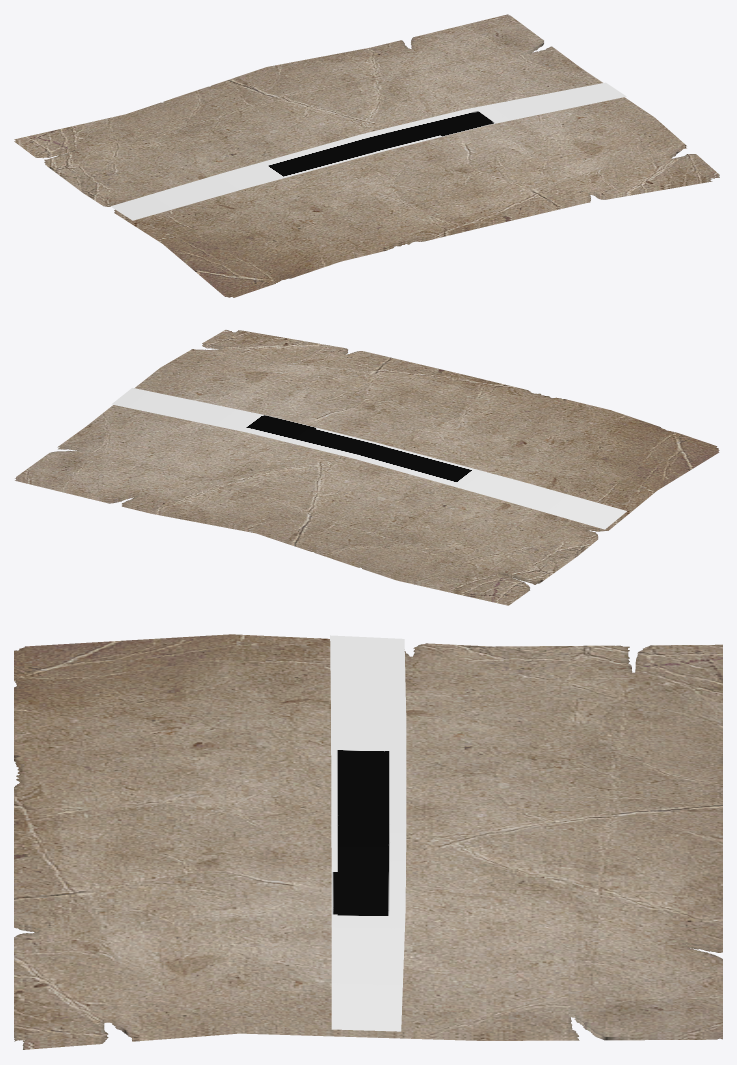
Rendered from 01_01_notes_munshi_mod_dead_earth.dae.
3 views of the same model, one above another, from view 1: azimuth 30°, elevation 25°; view 2: azimuth 150°, elevation 25°; view 3: azimuth 270°, elevation 25° (orthographic). The views are drawn at different scales.
Visible parts, largest first — view 1: note_paper, note_Dead_Earth; view 2: note_paper, note_Dead_Earth; view 3: note_paper, note_Dead_Earth.
Part boxes in pixels (x1,y1,x2,y2): note_paper: (14, 14, 719, 297); note_Dead_Earth: (110, 82, 626, 220); note_paper: (15, 330, 719, 605); note_Dead_Earth: (111, 388, 626, 529); note_paper: (14, 634, 722, 1049); note_Dead_Earth: (330, 635, 406, 1031).
Bounding box in the file's own units: 0.248 × 0.00869 × 0.1862.
